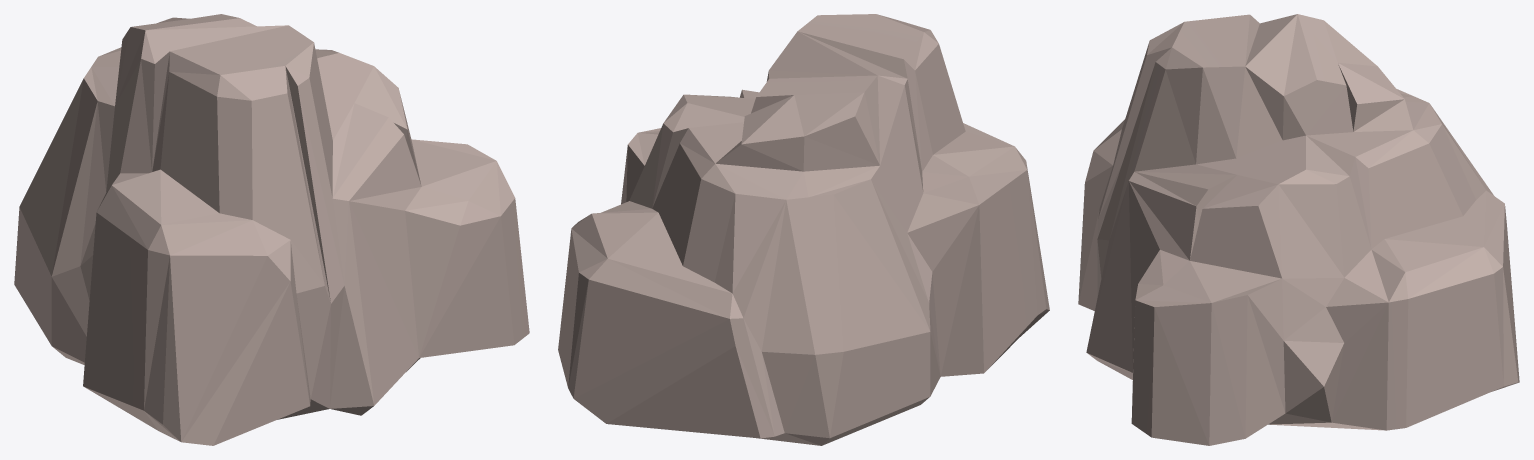
Rendered from rock_013.fbx.
The picture shows the model from 3 angles, left to right: view 1: azimuth 30°, elevation 25°; view 2: azimuth 150°, elevation 25°; view 3: azimuth 270°, elevation 25°; orthographic projection. The views are drawn at different scales.
Visible parts, largest first — view 1: rock.013; view 2: rock.013; view 3: rock.013.
Boxes of the visible parts, x1,y1,x2,y2 form: rock.013: [14, 14, 529, 445]; rock.013: [558, 14, 1049, 445]; rock.013: [1078, 14, 1519, 445].
Bounding box in the file's own units: 1218 × 942 × 1255.
1 material, 1 textured.
